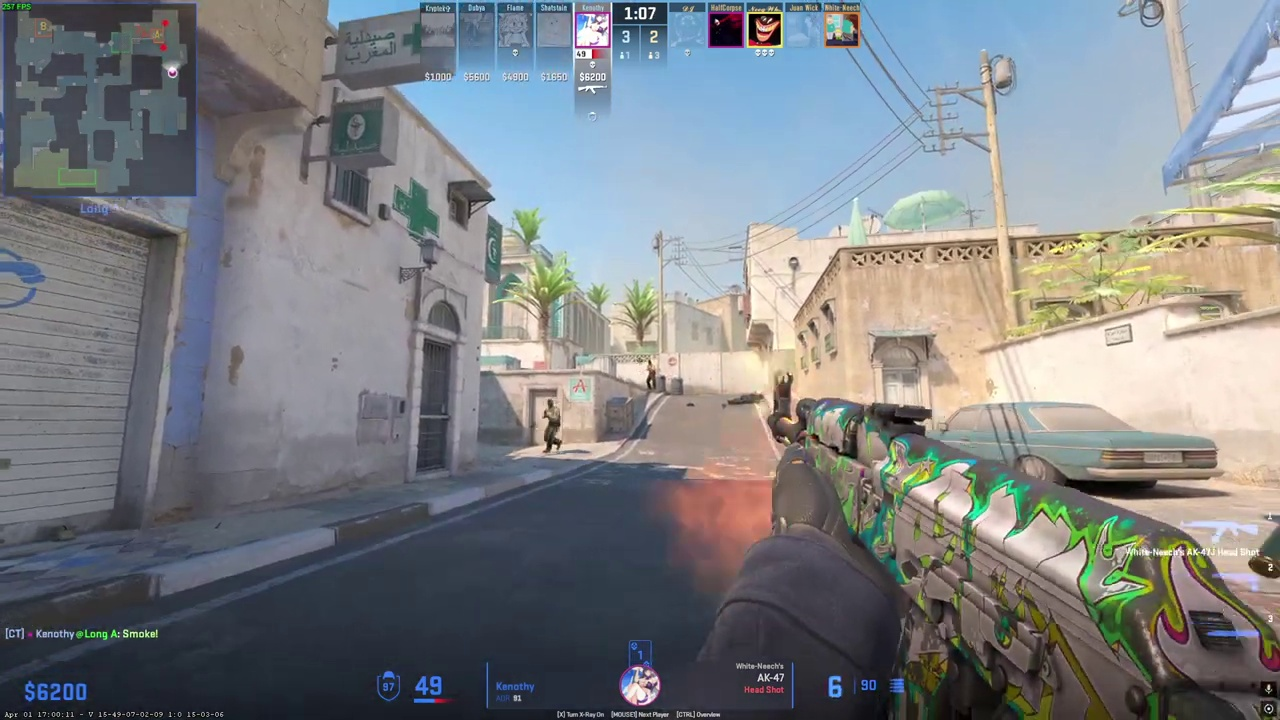Terrorist: (541, 398, 562, 452), (646, 359, 656, 391)
